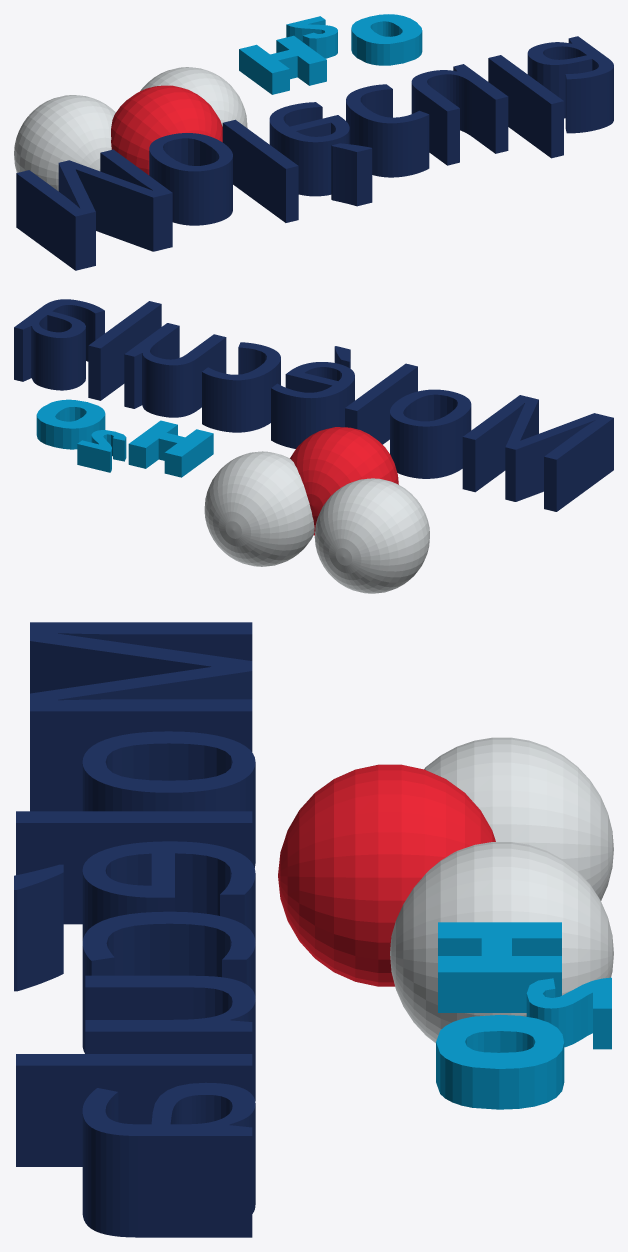
File: tinker.obj
3 views of the same model, one above another, from view 1: azimuth 30°, elevation 25°; view 2: azimuth 150°, elevation 25°; view 3: azimuth 270°, elevation 25° (orthographic). The views are drawn at different scales.
Visible parts, largest first — view 1: group_1650274, group_14541540, group_40919, group_15277357; view 2: group_1650274, group_14541540, group_40919, group_15277357; view 3: group_1650274, group_14541540, group_15277357, group_40919.
Boxes of the visible parts, bbox=[...] form: group_1650274: bbox=[16, 36, 613, 270]; group_14541540: bbox=[14, 67, 247, 191]; group_40919: bbox=[239, 14, 422, 94]; group_15277357: bbox=[111, 85, 222, 175]; group_1650274: bbox=[14, 299, 613, 511]; group_14541540: bbox=[204, 451, 429, 593]; group_40919: bbox=[36, 399, 213, 477]; group_15277357: bbox=[290, 427, 398, 535]; group_1650274: bbox=[14, 622, 255, 1237]; group_14541540: bbox=[390, 737, 613, 1043]; group_15277357: bbox=[278, 764, 495, 986]; group_40919: bbox=[436, 922, 611, 1109].
Size of the model in its own units: 108 by 22.82 by 53.56.
